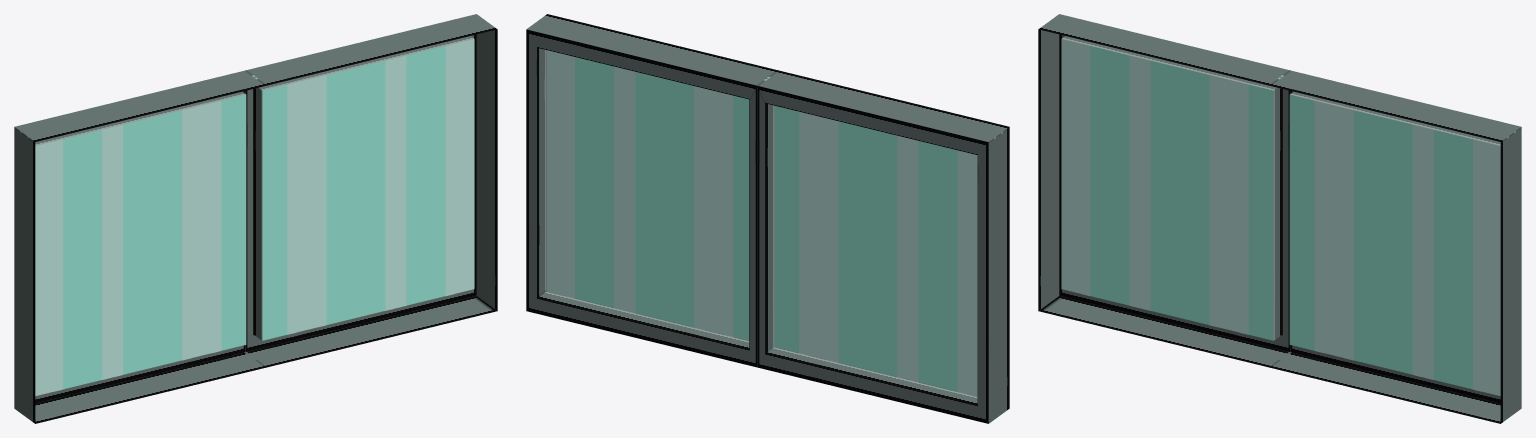
Rendered from ventana_opaca.fbx.
The picture shows the model from 3 angles, left to right: view 1: azimuth 30°, elevation 25°; view 2: azimuth 150°, elevation 25°; view 3: azimuth 330°, elevation 25°; orthographic projection.
Parts seen in each view (by area): view 1: Ventana_Opaca; view 2: Ventana_Opaca; view 3: Ventana_Opaca.
Part boxes in pixels (x1=…): Ventana_Opaca: x1=14, y1=14, x2=497, y2=423; Ventana_Opaca: x1=526, y1=14, x2=1009, y2=423; Ventana_Opaca: x1=1038, y1=14, x2=1521, y2=423.
Size of the model in its own units: 664 by 387 by 52.12.
Materials: 1 (1 with a texture image).
